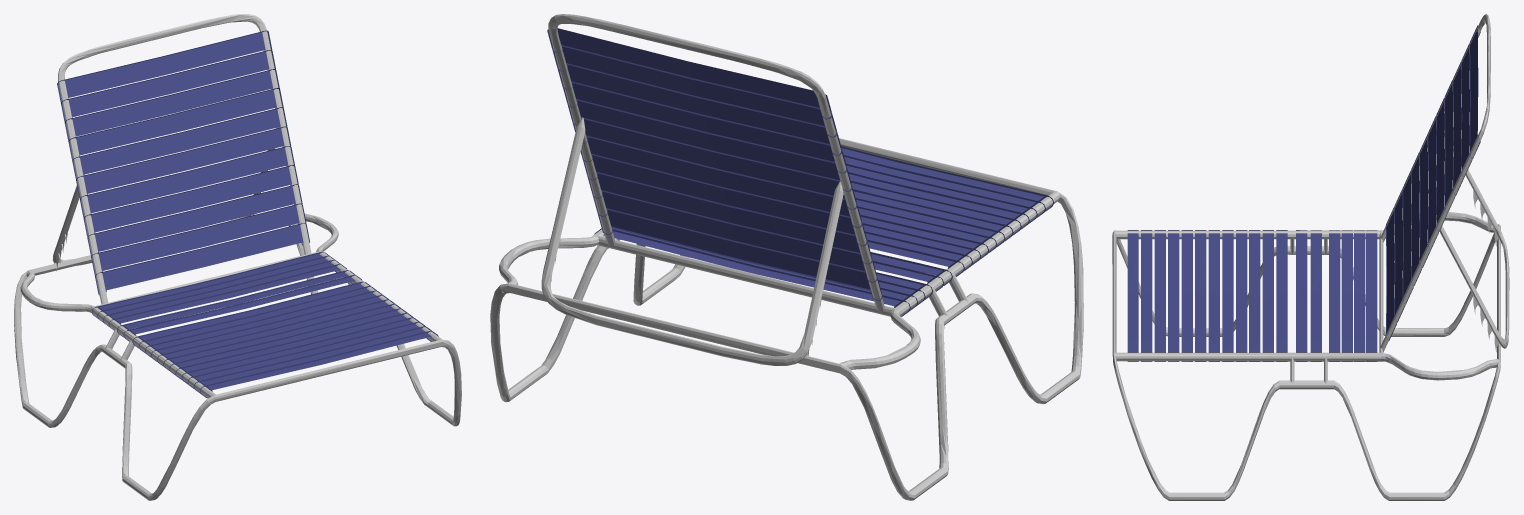
The model's file is sh-bsby-pool-lounge.glb.
3 renders of one model, left to right at view 1: azimuth 30°, elevation 25°; view 2: azimuth 150°, elevation 25°; view 3: azimuth 270°, elevation 25°, orthographic. The views are drawn at different scales.
Visible parts, largest first — view 1: lounge_Mesh; view 2: lounge_Mesh; view 3: lounge_Mesh.
Part boxes in pixels (x1,y1,x2,y2): lounge_Mesh: [14, 14, 461, 500]; lounge_Mesh: [490, 14, 1083, 500]; lounge_Mesh: [1112, 14, 1509, 500].
Bounding box in the file's own units: 1 × 0.9998 × 0.9999.
